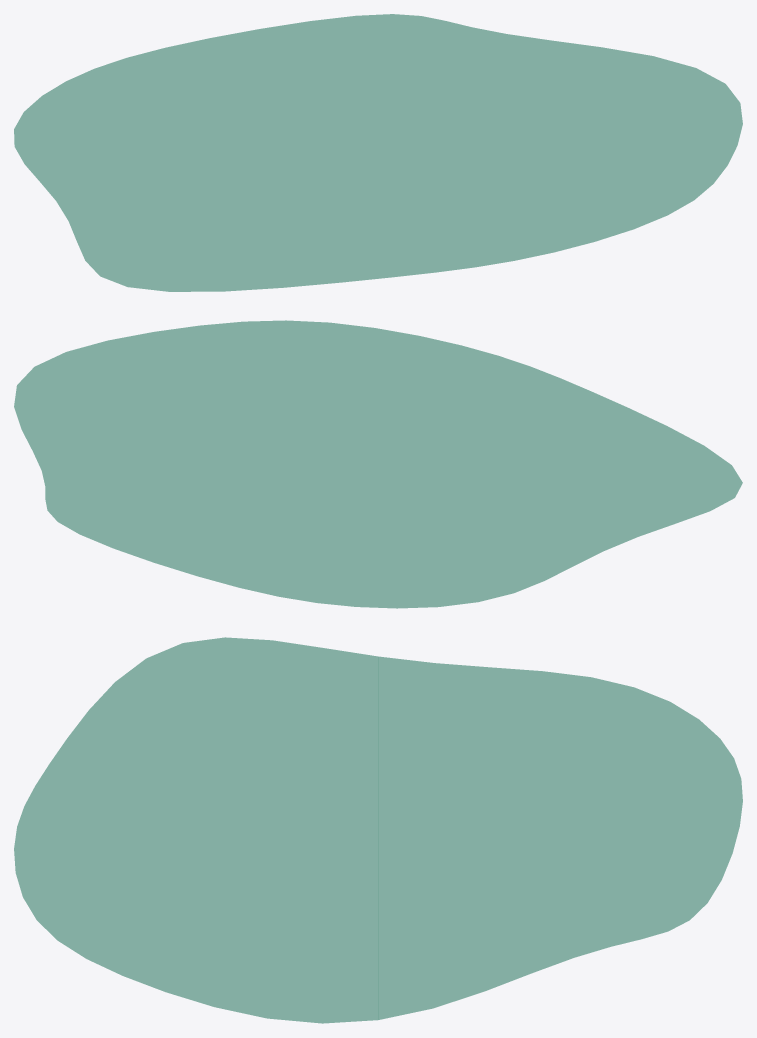
The model's file is sp_pond_water.glb.
3 views of the same model, one above another, from view 1: azimuth 30°, elevation 25°; view 2: azimuth 150°, elevation 25°; view 3: azimuth 270°, elevation 25° (orthographic). The views are drawn at different scales.
Visible parts, largest first — view 1: spire; view 2: spire; view 3: spire.
Boxes of the visible parts, x1,y1,x2,y2 form: spire: (14, 14, 742, 291); spire: (14, 320, 742, 608); spire: (14, 637, 742, 1023).
Size of the model in its own units: 9.77 by 0 by 7.79.
